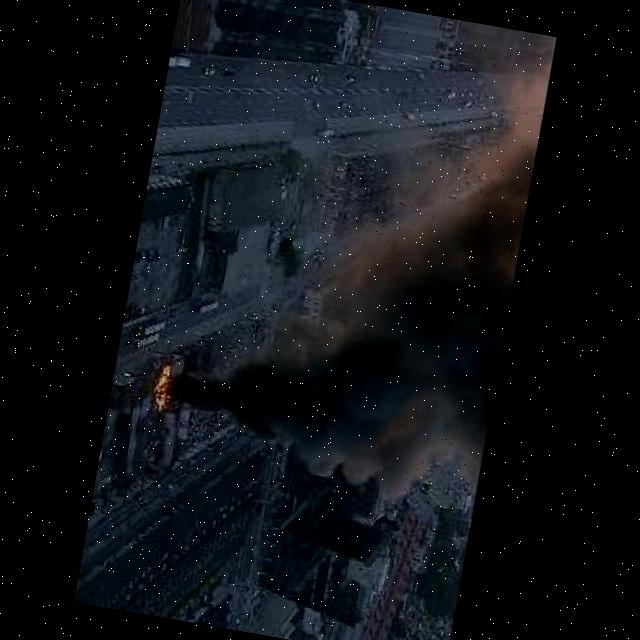fire: (149, 366, 177, 413)
